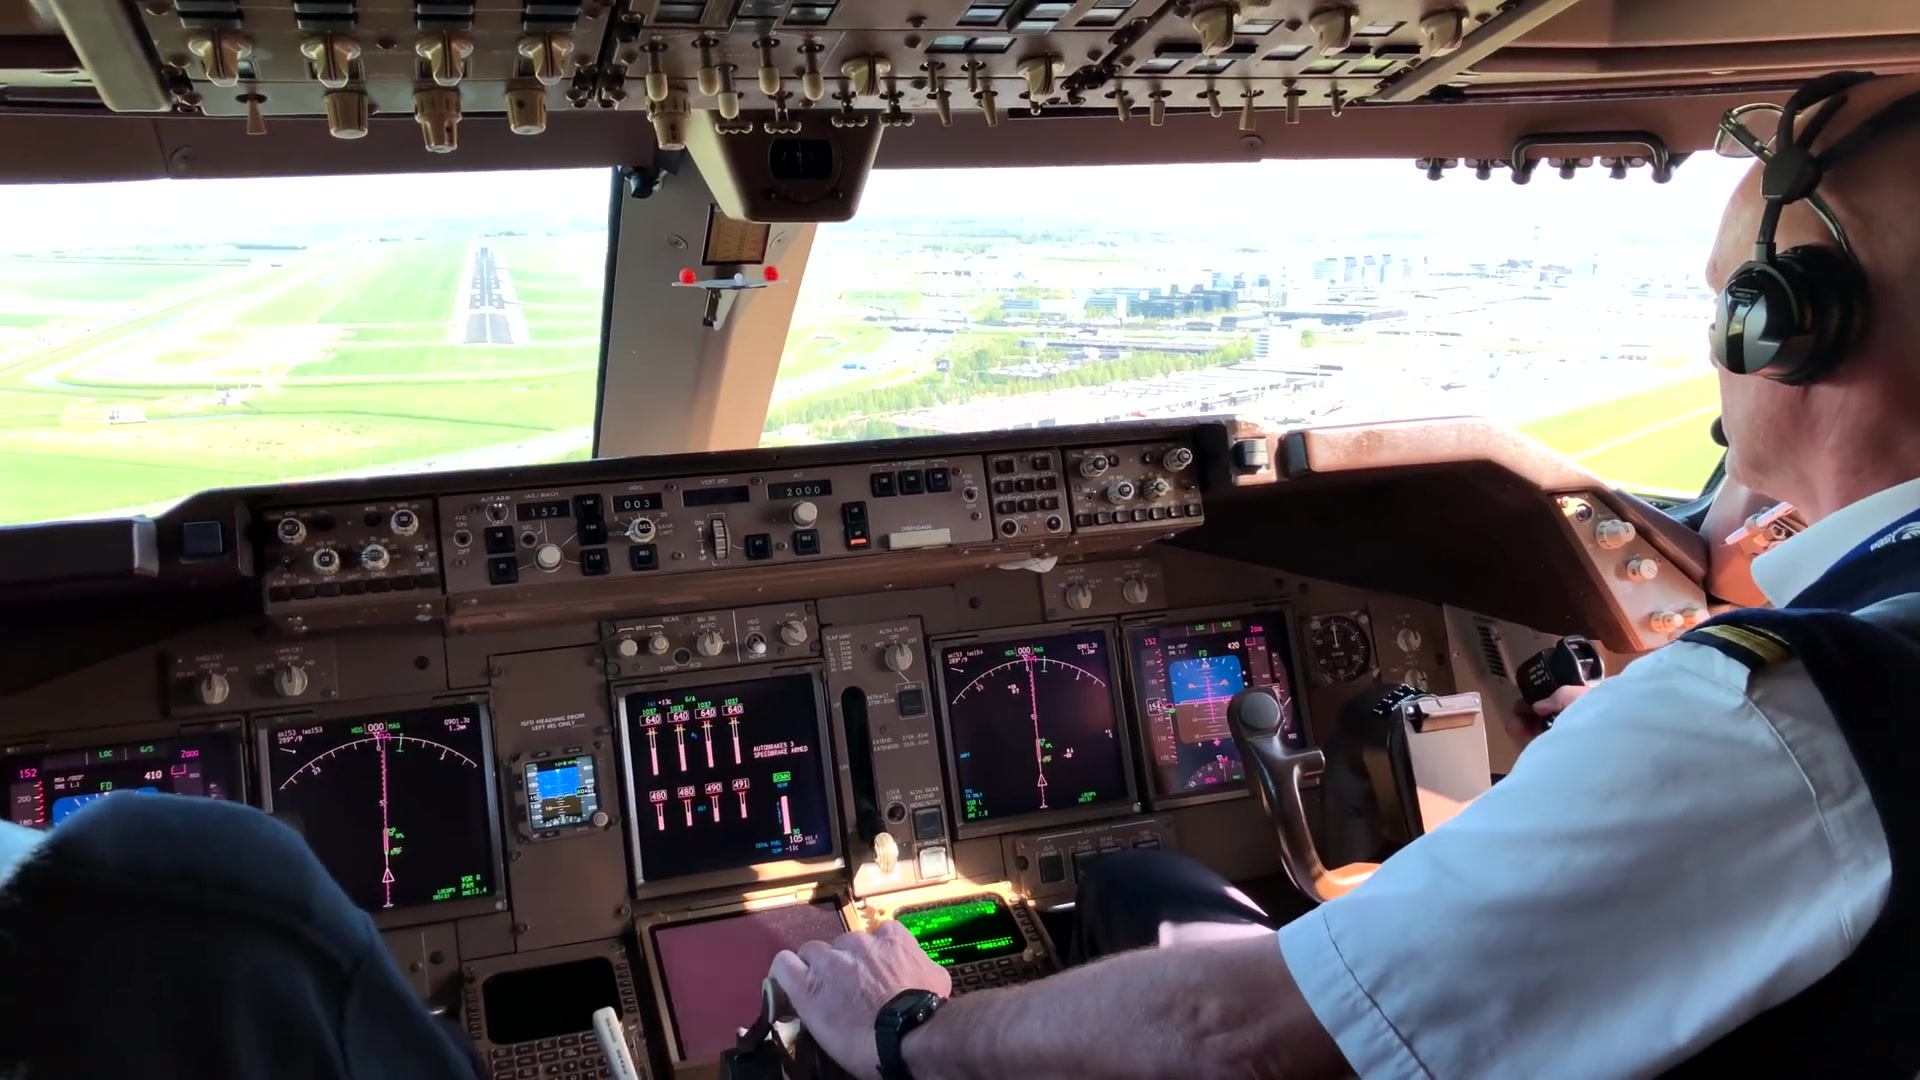runway: (460, 247, 513, 345)
